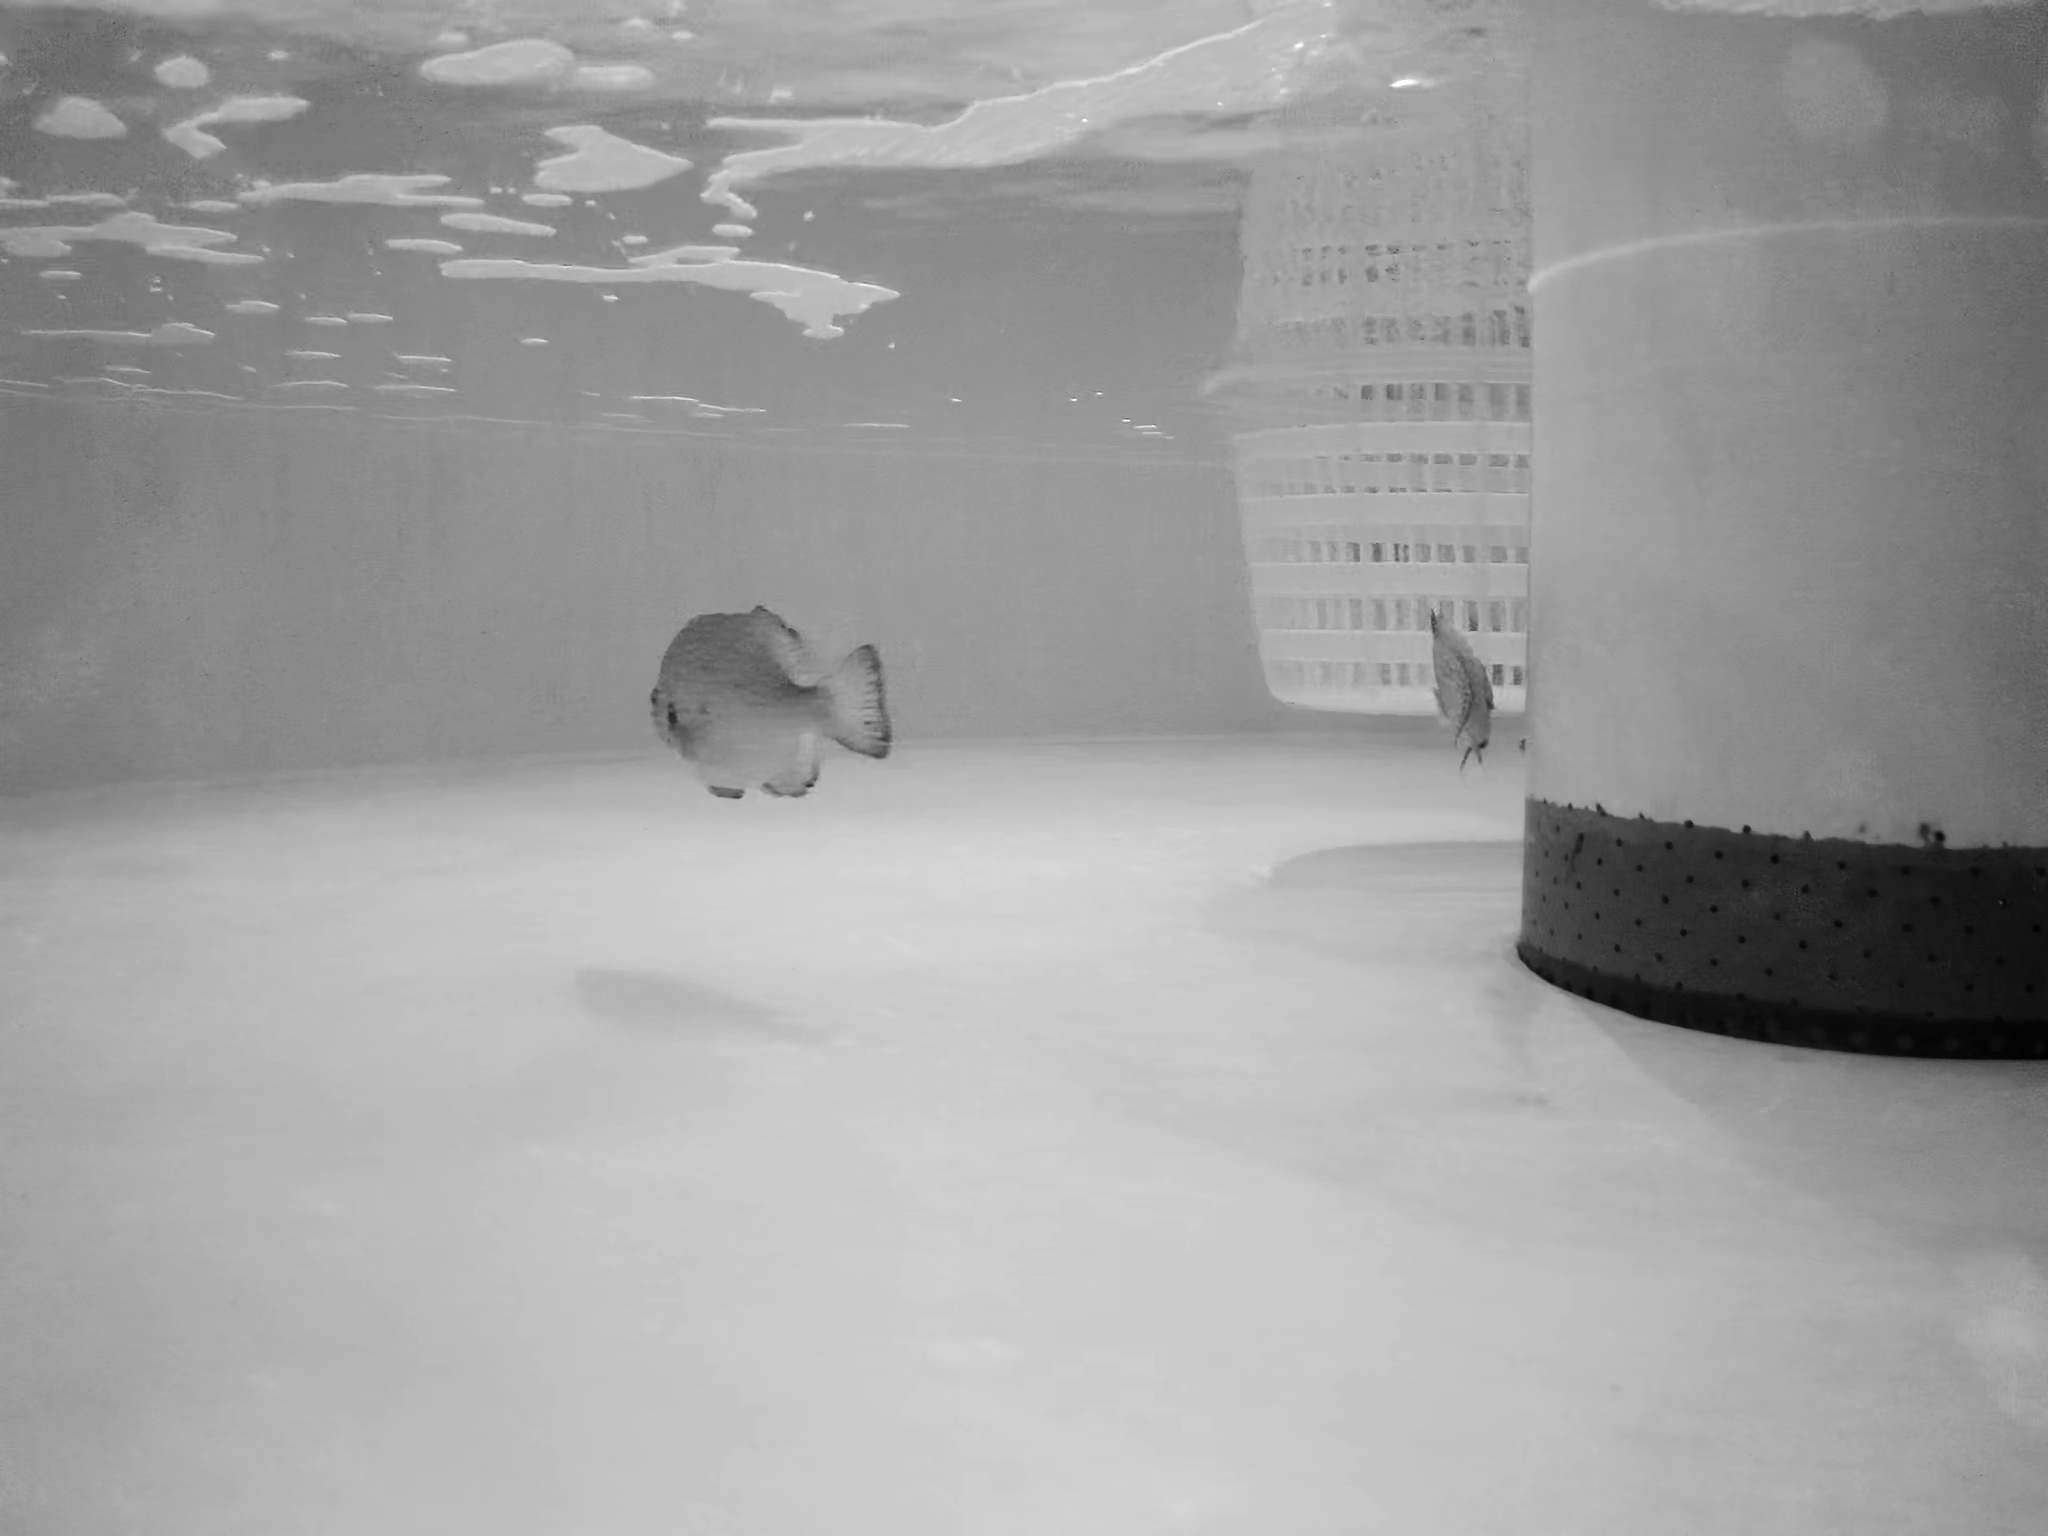fish: (645, 602, 887, 805), (1414, 605, 1508, 770)
